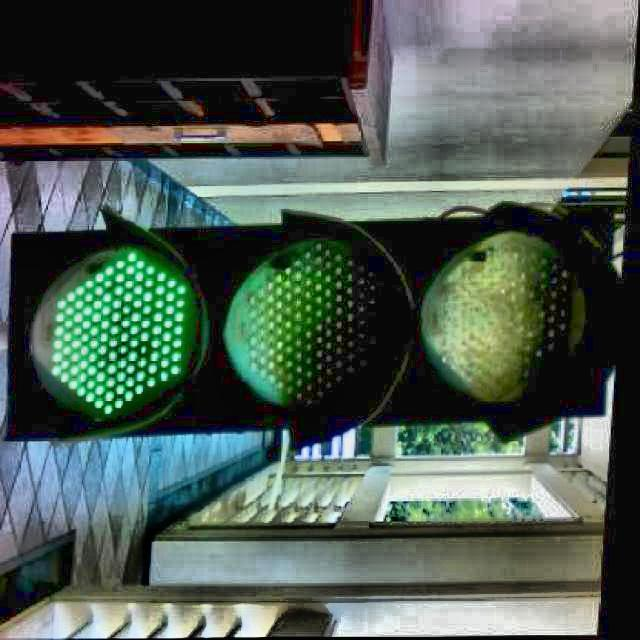green: (12, 230, 606, 422)
